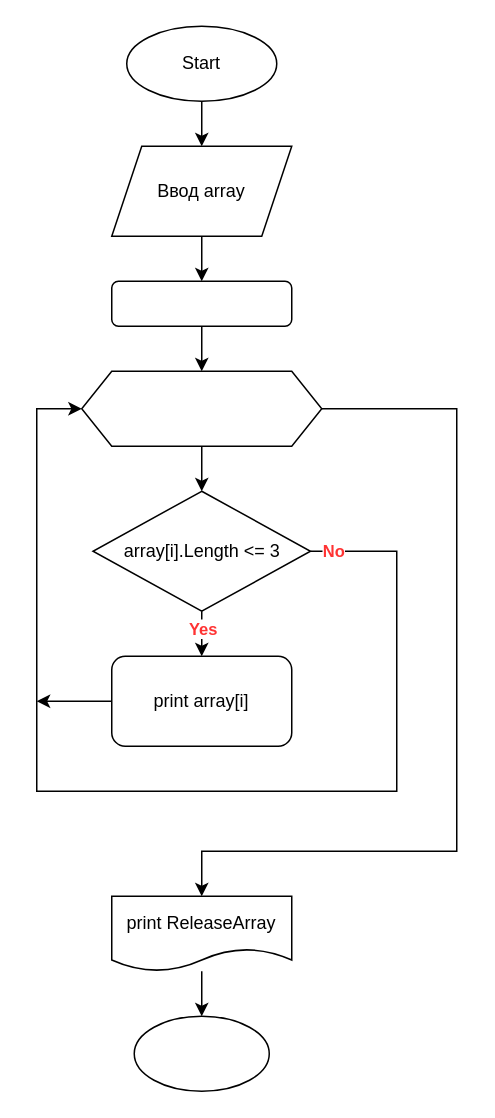
The diagram is 495 pixels wide and 1118 high, and some of its shapes have lost their labels. The shapes that lost their labels are listed below. From the top down, each one's centre as x and y in pixels, then its label:
At (x=201, y=303): "print InputArray".
At (x=201, y=408): "i = 0; i < array.Length; i++".
At (x=201, y=1053): "End".
